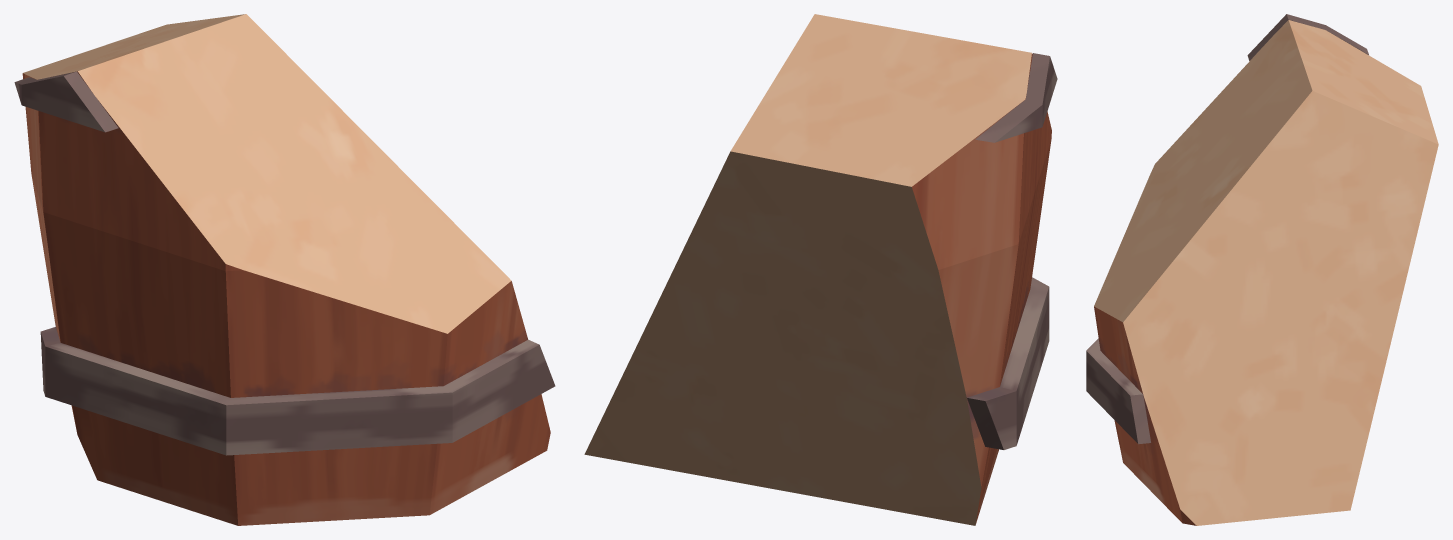
File: barrel_s06.fbx
3 views of the same model, side by side, from view 1: azimuth 30°, elevation 25°; view 2: azimuth 150°, elevation 25°; view 3: azimuth 270°, elevation 25° (orthographic). The views are drawn at different scales.
Visible parts, largest first — view 1: barrel_s06; view 2: barrel_s06; view 3: barrel_s06.
Part boxes in pixels (box(x1,y1,x2,y2)): barrel_s06: box(14, 14, 555, 525); barrel_s06: box(584, 14, 1057, 525); barrel_s06: box(1086, 14, 1438, 525).
Size of the model in its own units: 2.03 by 1.89 by 1.74.
